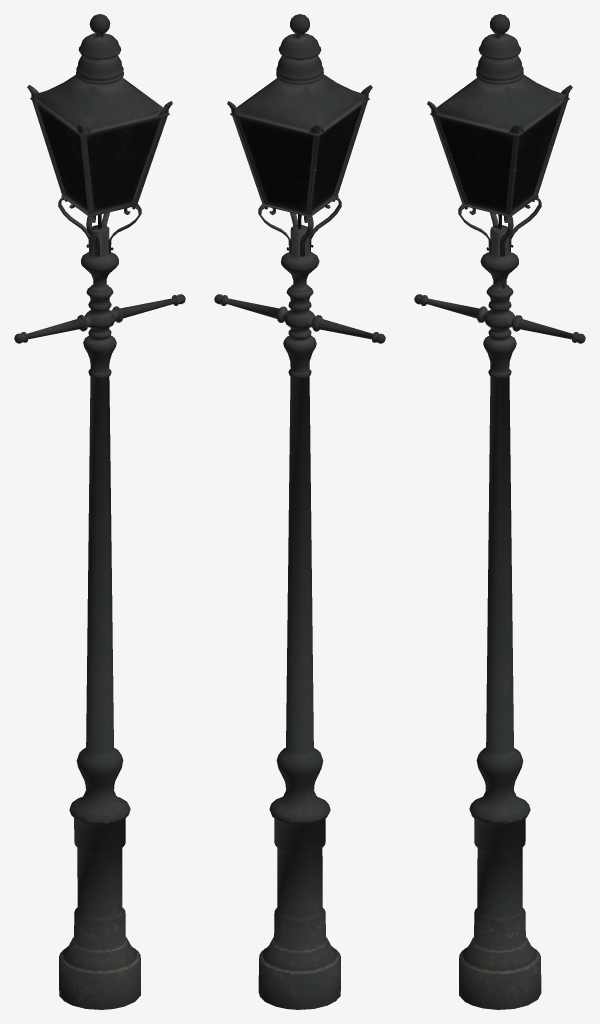
3 renders of one model, left to right at view 1: azimuth 30°, elevation 25°; view 2: azimuth 150°, elevation 25°; view 3: azimuth 330°, elevation 25°, orthographic.
Visible parts, largest first — view 1: street_lamp_01; view 2: street_lamp_01; view 3: street_lamp_01.
Part boxes in pixels (x1,y1,x2,y2): street_lamp_01: (14, 14, 185, 1009); street_lamp_01: (214, 14, 385, 1009); street_lamp_01: (414, 14, 585, 1009).
Size of the model in its own units: 0.7043 by 3.87 by 0.3854.
3 materials, 3 textured.
